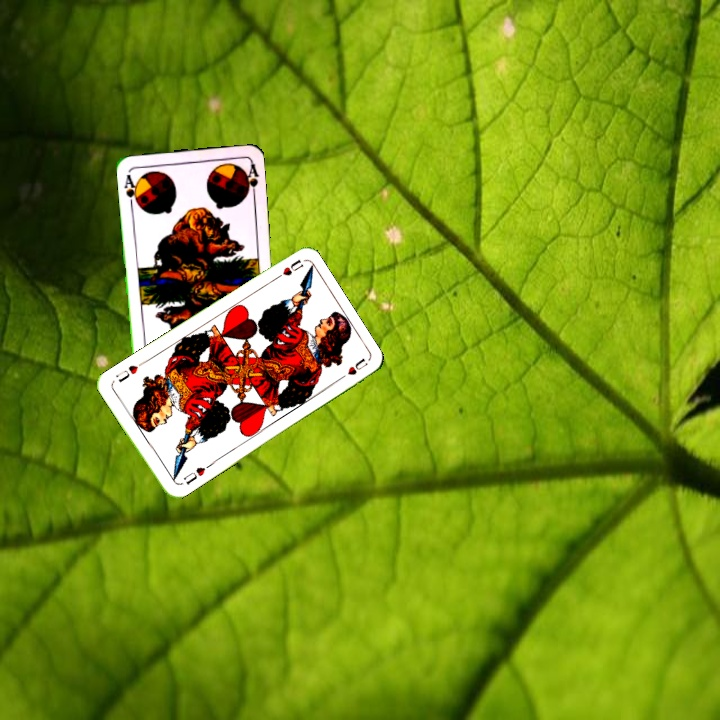HU: (269, 256, 306, 283), (180, 461, 212, 487)
SA: (120, 170, 142, 209)
